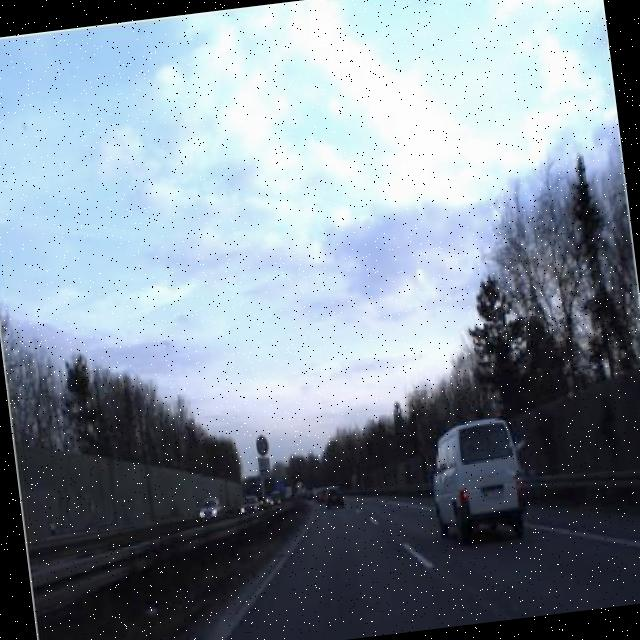Ograniczenie predkosci do 80: (251, 430, 273, 458)
